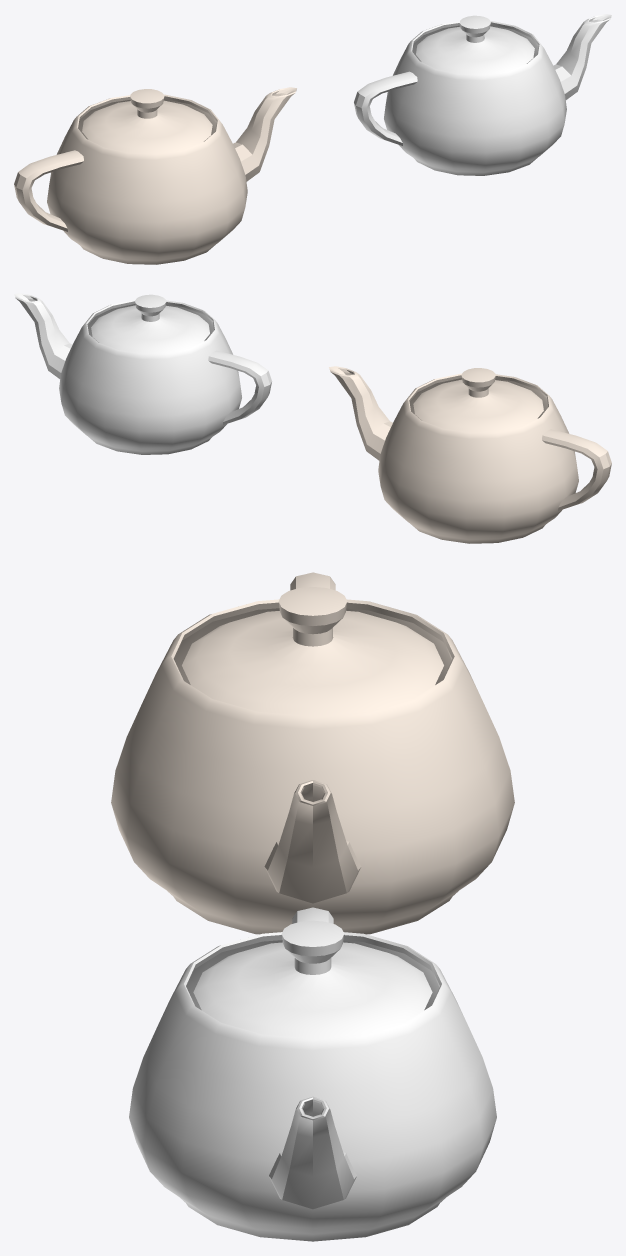
The picture shows the model from 3 angles, top to bottom: view 1: azimuth 30°, elevation 25°; view 2: azimuth 150°, elevation 25°; view 3: azimuth 270°, elevation 25°; orthographic projection. The views are drawn at different scales.
Visible parts, largest first — view 1: Teapot001, Teapot002; view 2: Teapot001, Teapot002; view 3: Teapot001, Teapot002.
Part boxes in pixels (x1,y1,x2,y2): Teapot001: (14, 87, 296, 264); Teapot002: (354, 14, 611, 175); Teapot001: (329, 366, 611, 543); Teapot002: (14, 293, 271, 454); Teapot001: (111, 572, 514, 934); Teapot002: (129, 907, 496, 1241).
Bounding box in the file's own units: 219 × 50.5 × 64.13.
